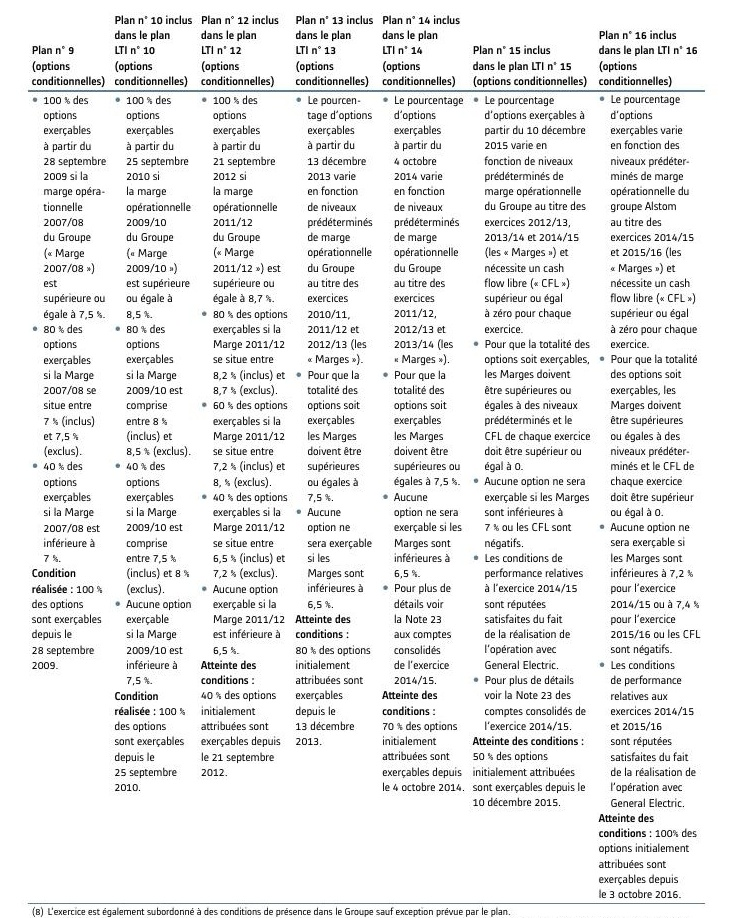table: (0, 0, 729, 918)
